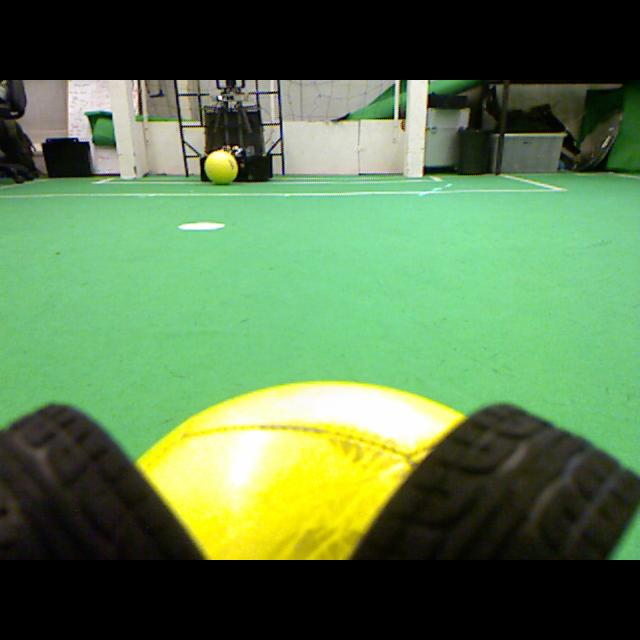ball: (133, 382, 465, 559), (204, 150, 238, 184)
goal: (107, 80, 137, 179), (407, 80, 429, 178)
robot: (176, 80, 284, 181)
